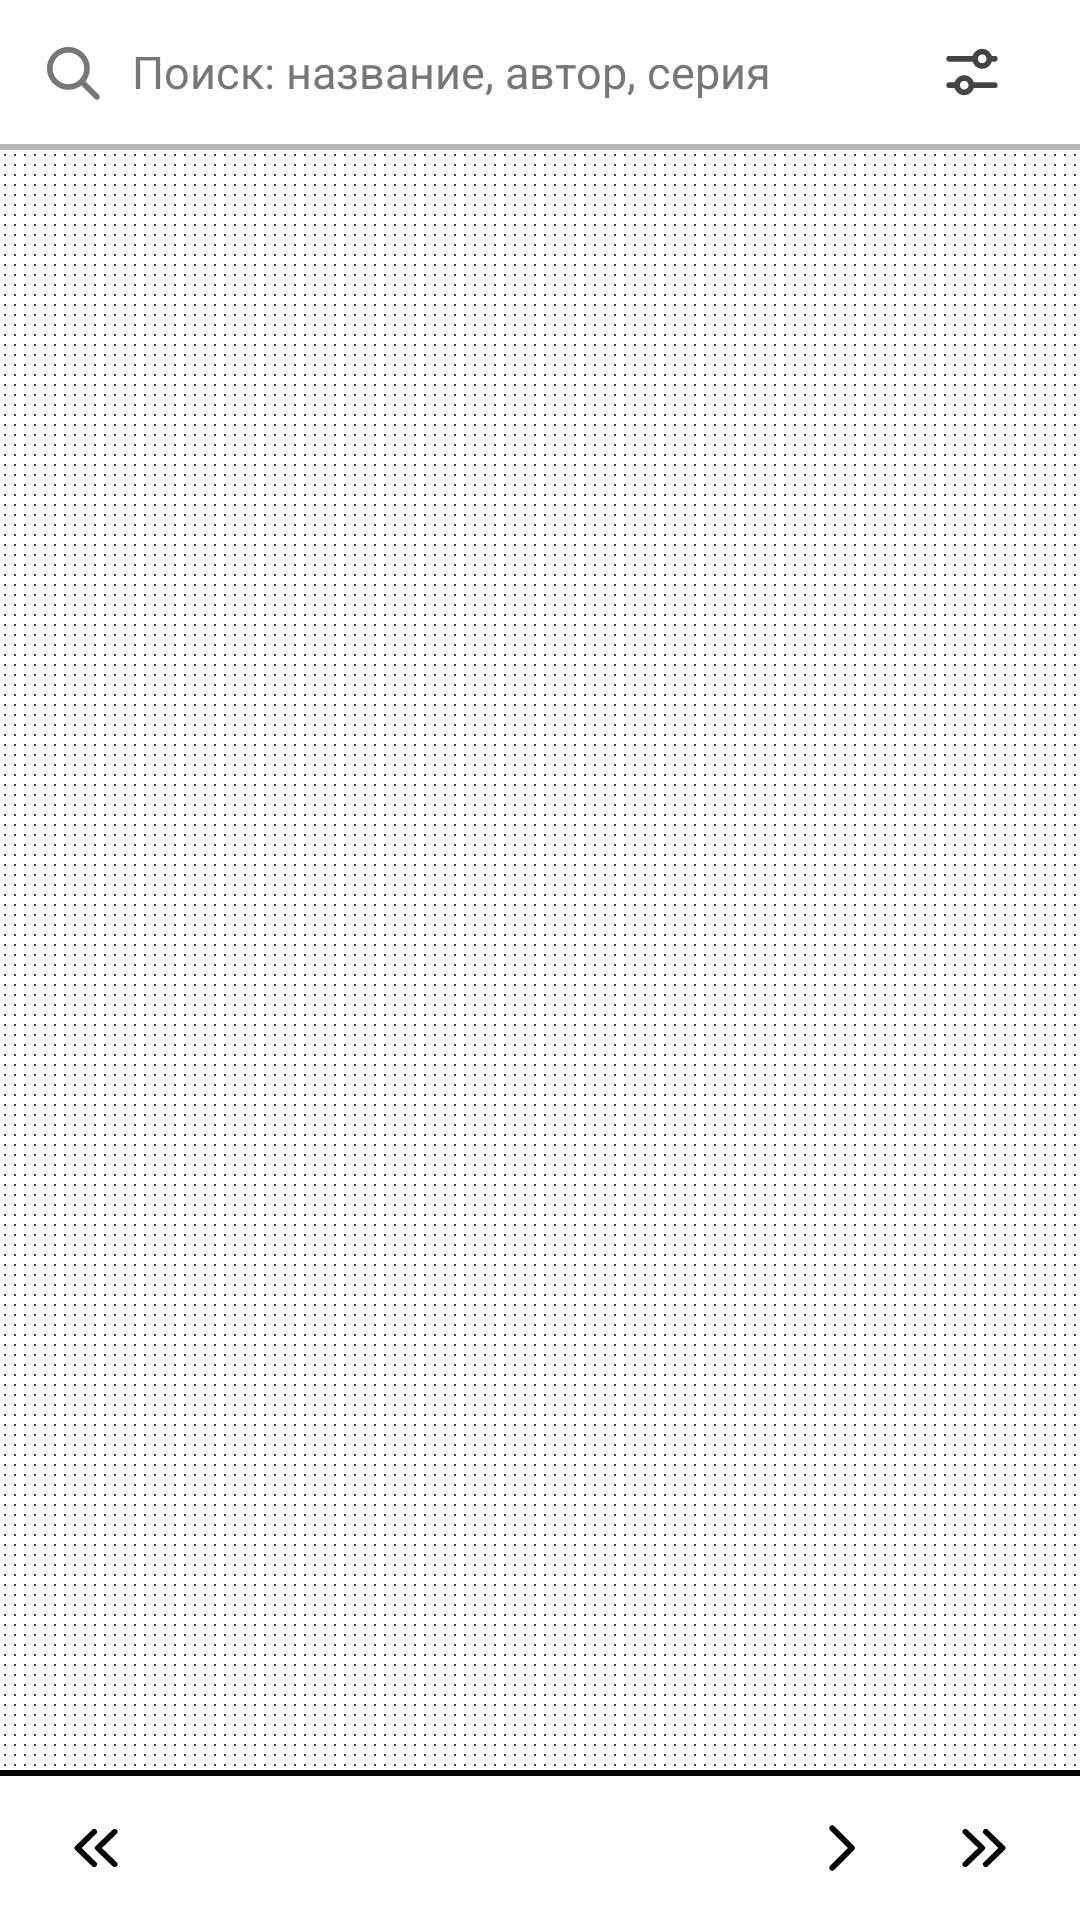

Icon bounding boxes for this 1080×1920 phone screenshot, format (x1,y1,x2,y2):
В конец: (962,1828,1006,1868)
В начало: (74,1828,118,1868)
Настройки: (946,48,998,96)
Следующая страница: (829,1825,855,1871)
